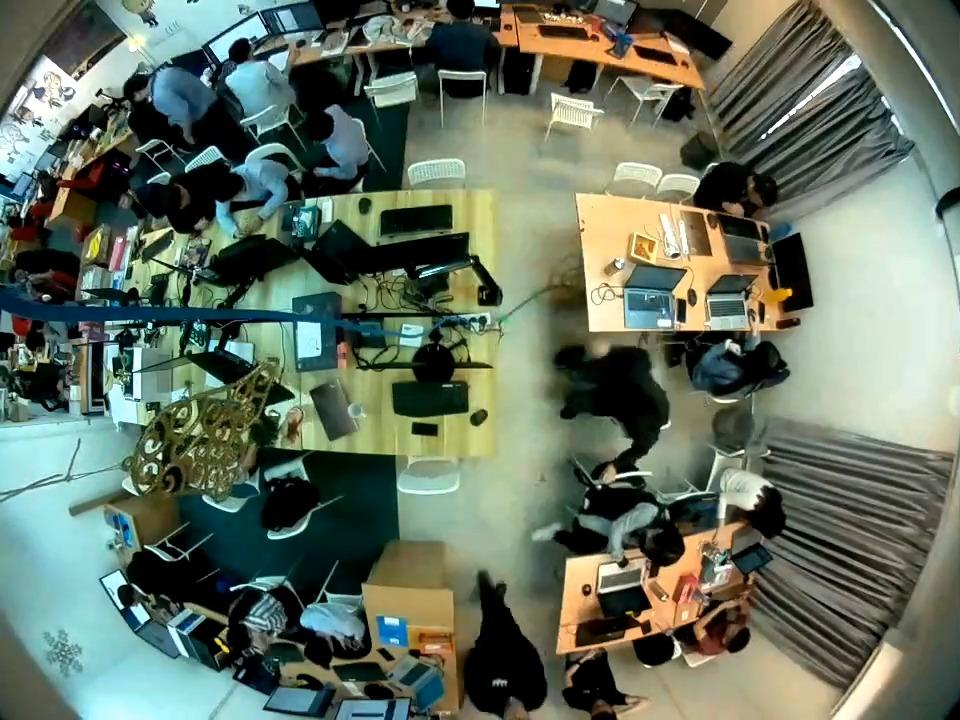name-tag: (492, 678, 509, 687)
